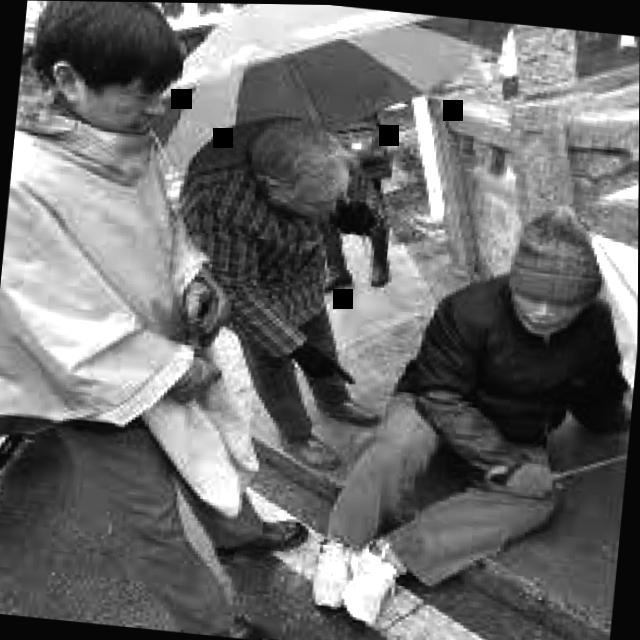Fall-Detected: (288, 179, 639, 607)
